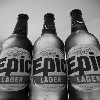beer: (32, 9, 66, 100)
